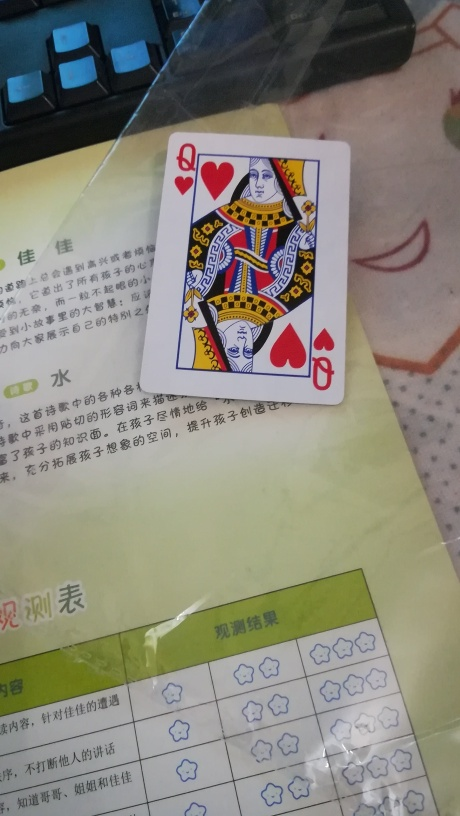hx q: (134, 126, 345, 415)
